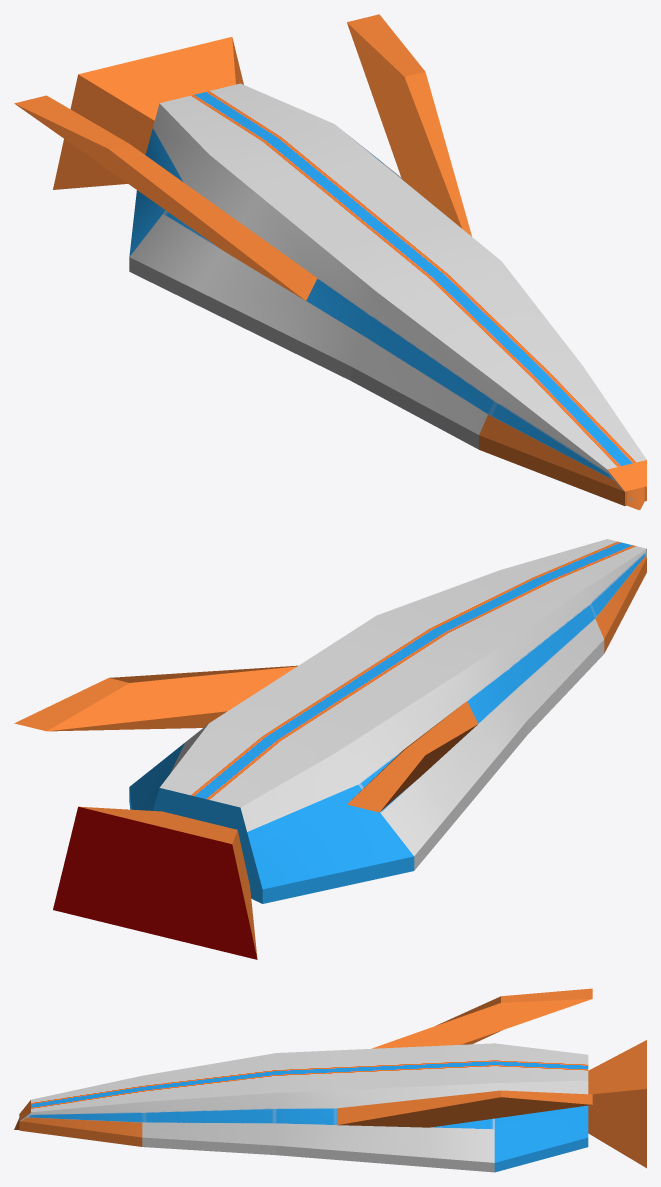
Rendered from Ship_Model.fbx.
3 views of the same model, one above another, from view 1: azimuth 30°, elevation 25°; view 2: azimuth 150°, elevation 25°; view 3: azimuth 270°, elevation 25° (orthographic). The views are drawn at different scales.
Parts seen in each view (by area): view 1: pCube1; view 2: pCube1; view 3: pCube1.
Part boxes in pixels (box(x1,y1,x2,y2)): pCube1: box(14, 14, 646, 510); pCube1: box(14, 539, 646, 959); pCube1: box(14, 988, 646, 1172).
Size of the model in its own units: 8.54 by 3.05 by 19.62.
1 material, 1 textured.
